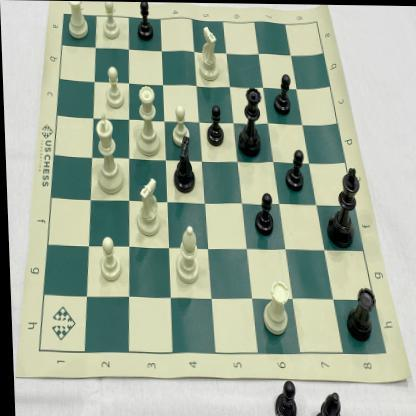black-king: (320, 165, 362, 250)
black-knight: (166, 135, 196, 194)
black-pawn: (250, 188, 274, 238), (282, 147, 305, 193), (134, 2, 156, 46), (271, 70, 292, 116), (204, 103, 224, 150)
black-queen: (235, 83, 263, 160)
black-rook: (342, 283, 376, 342)
white-bishop: (170, 221, 199, 287)
white-king: (90, 110, 125, 196)
white-knight: (134, 173, 161, 238), (195, 21, 221, 83)
white-pawn: (95, 233, 122, 283), (167, 103, 190, 148), (102, 64, 125, 109), (99, 1, 122, 40)
white-queen: (134, 82, 161, 157)
white-rook: (257, 274, 290, 338), (65, 1, 90, 41)
